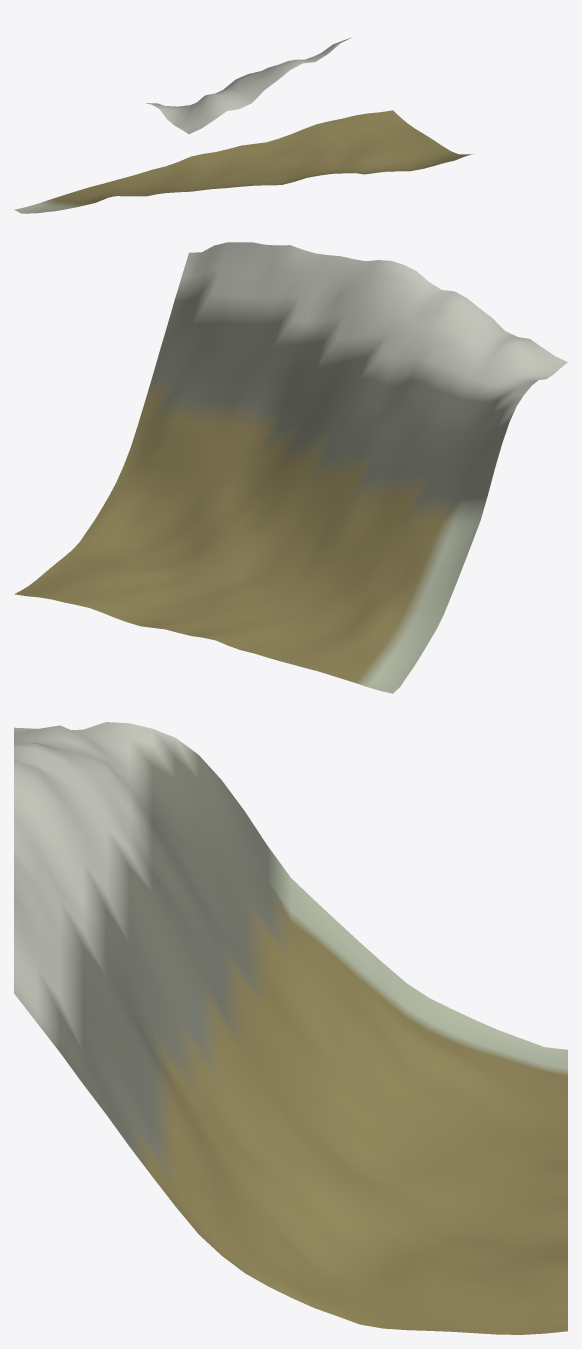
3 renders of one model, top to bottom at view 1: azimuth 30°, elevation 25°; view 2: azimuth 150°, elevation 25°; view 3: azimuth 270°, elevation 25°, orthographic. The views are drawn at different scales.
Visible parts, largest first — view 1: world-ground/180-0; view 2: world-ground/180-0; view 3: world-ground/180-0.
Boxes of the visible parts, x1,y1,x2,y2 form: world-ground/180-0: (14,37,472,213); world-ground/180-0: (14,242,567,693); world-ground/180-0: (14,722,567,1334).
Size of the model in its own units: 37.5 by 24.76 by 30.
